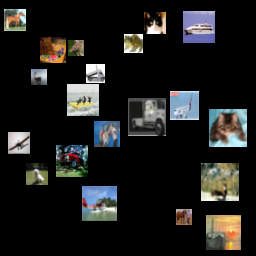airplane: (82, 186, 117, 221), (170, 91, 199, 120), (8, 132, 30, 154)
automobile: (56, 145, 88, 177)
bird: (68, 40, 84, 56)
cat: (209, 109, 247, 147), (40, 37, 66, 63), (144, 12, 166, 34)
deer: (201, 163, 239, 201)
dog: (26, 163, 48, 185)
frog: (124, 34, 143, 53)
ship: (206, 215, 241, 250), (183, 11, 215, 43), (67, 84, 99, 116), (31, 69, 47, 85)
